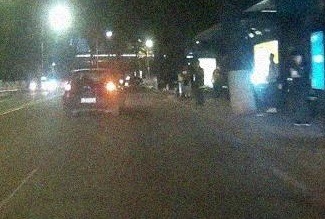L_light: (65, 84, 72, 91)
R_light: (107, 82, 117, 91)
T_light: (86, 70, 96, 72)
night-right: (64, 68, 118, 117)
